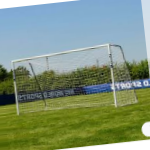goals: (10, 41, 138, 116)
